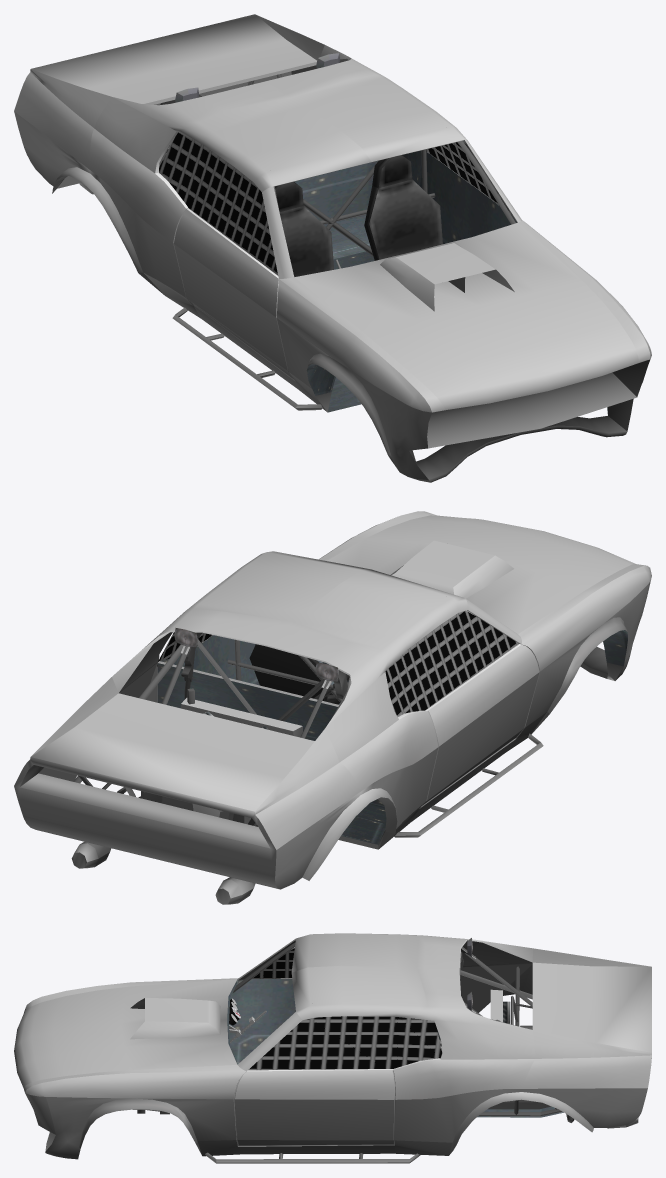
The model's file is 21711_bloco.obj.
3 views of the same model, one above another, from view 1: azimuth 30°, elevation 25°; view 2: azimuth 150°, elevation 25°; view 3: azimuth 270°, elevation 25° (orthographic). The views are drawn at different scales.
Visible parts, largest first — view 1: 21711_bloco; view 2: 21711_bloco; view 3: 21711_bloco.
Part boxes in pixels (x1,y1,x2,y2): 21711_bloco: (14, 14, 651, 482); 21711_bloco: (14, 511, 651, 904); 21711_bloco: (14, 933, 651, 1163).
Size of the model in its own units: 2.43 by 1.56 by 5.92.
